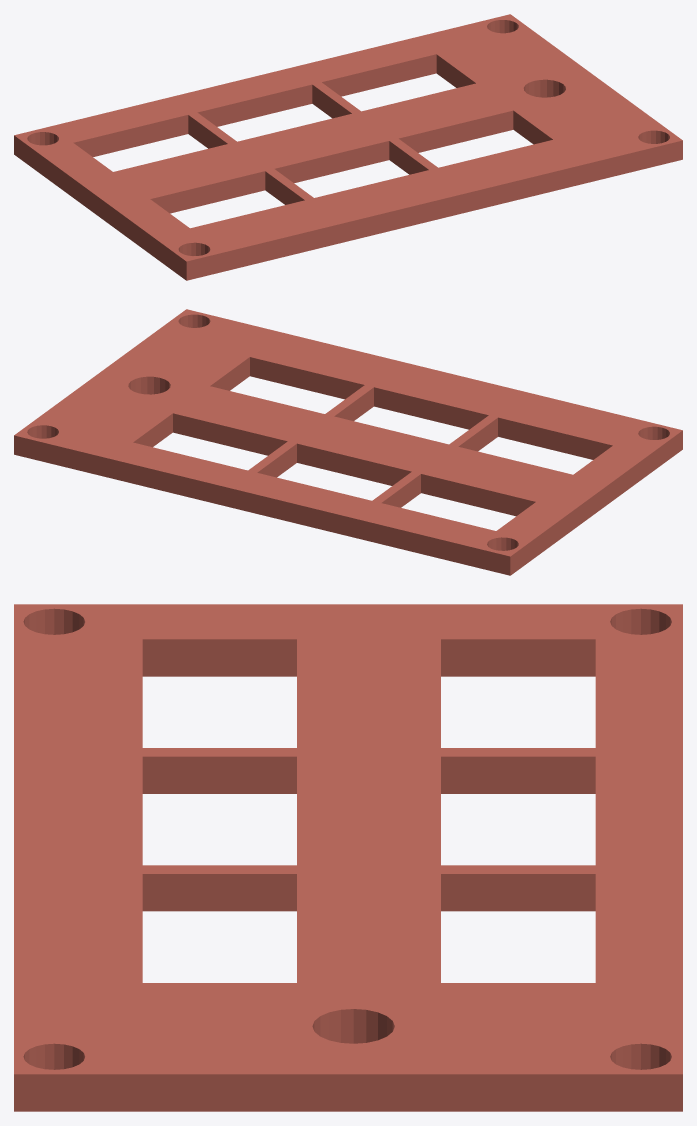
File: AXII Nexus.glb
3 views of the same model, one above another, from view 1: azimuth 30°, elevation 25°; view 2: azimuth 150°, elevation 25°; view 3: azimuth 270°, elevation 25° (orthographic). The views are drawn at different scales.
Visible parts, largest first — view 1: Mesh_Mesh_head_geo.001_lambert2SG.001; view 2: Mesh_Mesh_head_geo.001_lambert2SG.001; view 3: Mesh_Mesh_head_geo.001_lambert2SG.001.
Boxes of the visible parts, box(x1,y1,x2,y2) form: Mesh_Mesh_head_geo.001_lambert2SG.001: box(14, 14, 682, 280); Mesh_Mesh_head_geo.001_lambert2SG.001: box(14, 309, 682, 575); Mesh_Mesh_head_geo.001_lambert2SG.001: box(14, 604, 682, 1111).
Size of the model in its own units: 0.108 by 0.004 by 0.065.
